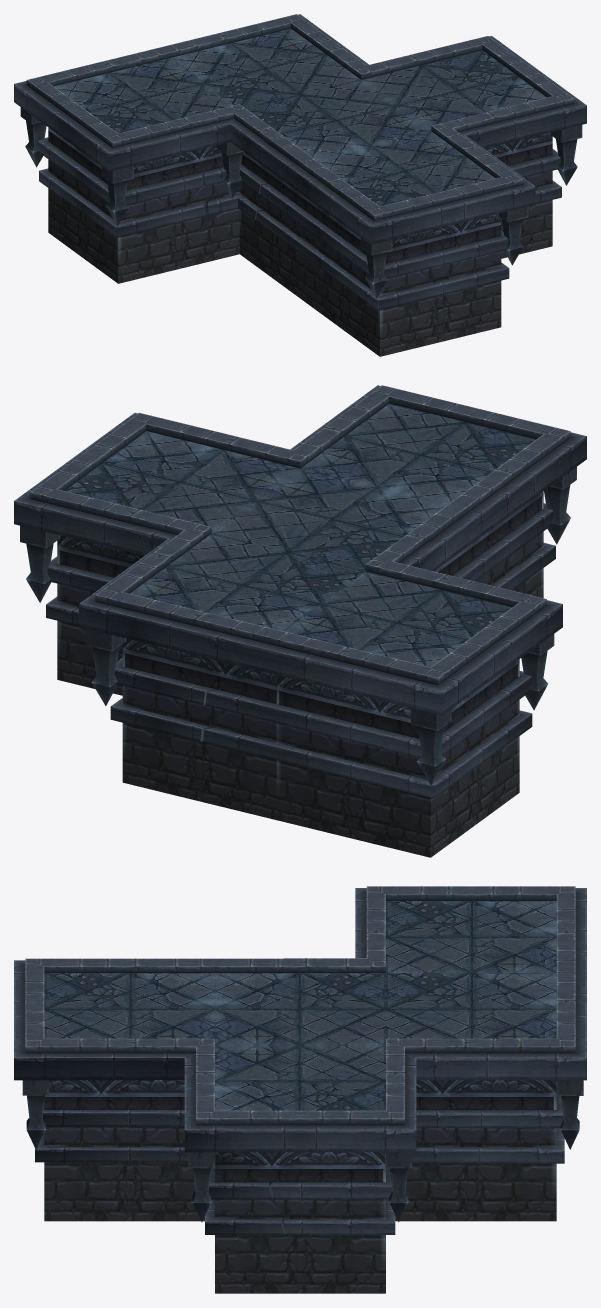
File: Ice_platform04.FBX
The picture shows the model from 3 angles, top to bottom: view 1: azimuth 30°, elevation 25°; view 2: azimuth 150°, elevation 25°; view 3: azimuth 270°, elevation 25°; orthographic projection. The views are drawn at different scales.
Parts seen in each view (by area): view 1: Group008; view 2: Group008; view 3: Group008.
Boxes of the visible parts, x1=… form: Group008: x1=14, y1=14, x2=586, y2=356; Group008: x1=14, y1=385, x2=586, y2=857; Group008: x1=14, y1=886, x2=586, y2=1293.
Size of the model in its own units: 1527 by 538 by 1527.
